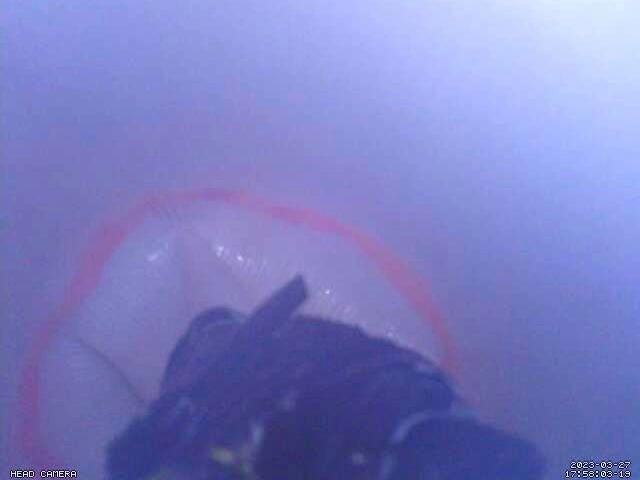head: (14, 186, 464, 480)
